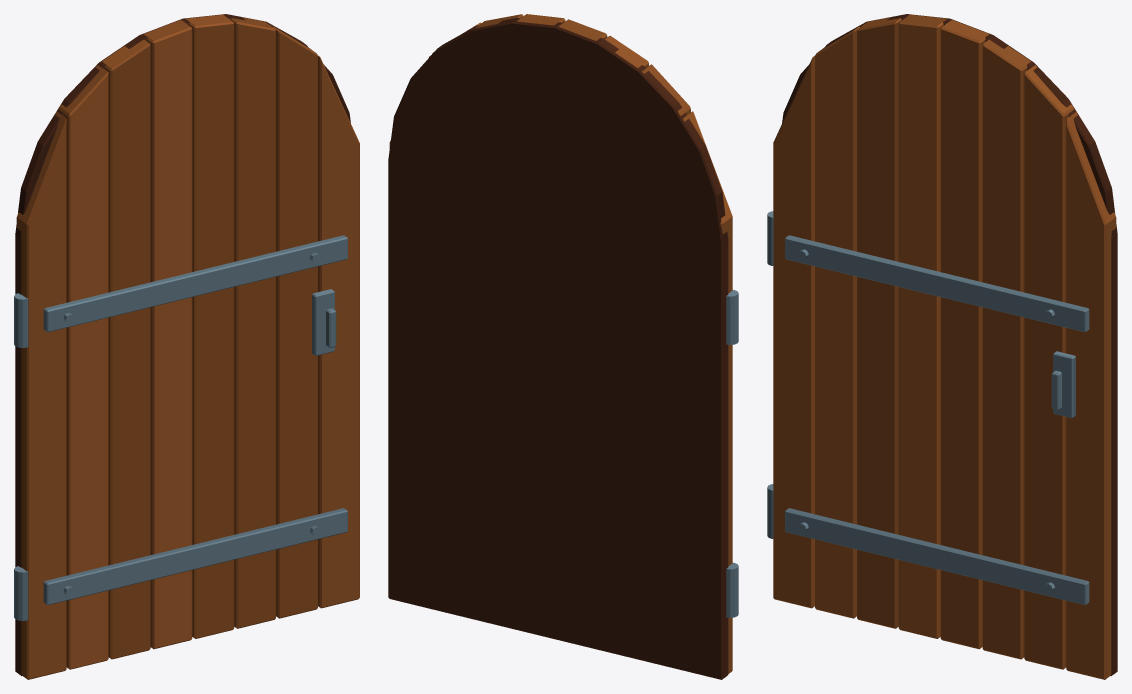
File: EH_ArchedDoor.fbx
The picture shows the model from 3 angles, left to right: view 1: azimuth 30°, elevation 25°; view 2: azimuth 150°, elevation 25°; view 3: azimuth 330°, elevation 25°; orthographic projection.
Parts seen in each view (by area): view 1: EH_ArchedDoor; view 2: EH_ArchedDoor; view 3: EH_ArchedDoor.
Boxes of the visible parts, <box> form: EH_ArchedDoor: <box>14,14,359,679</box>; EH_ArchedDoor: <box>388,14,738,679</box>; EH_ArchedDoor: <box>767,14,1117,679</box>.
Bounding box in the file's own units: 1.18 × 2.02 × 0.1425.
